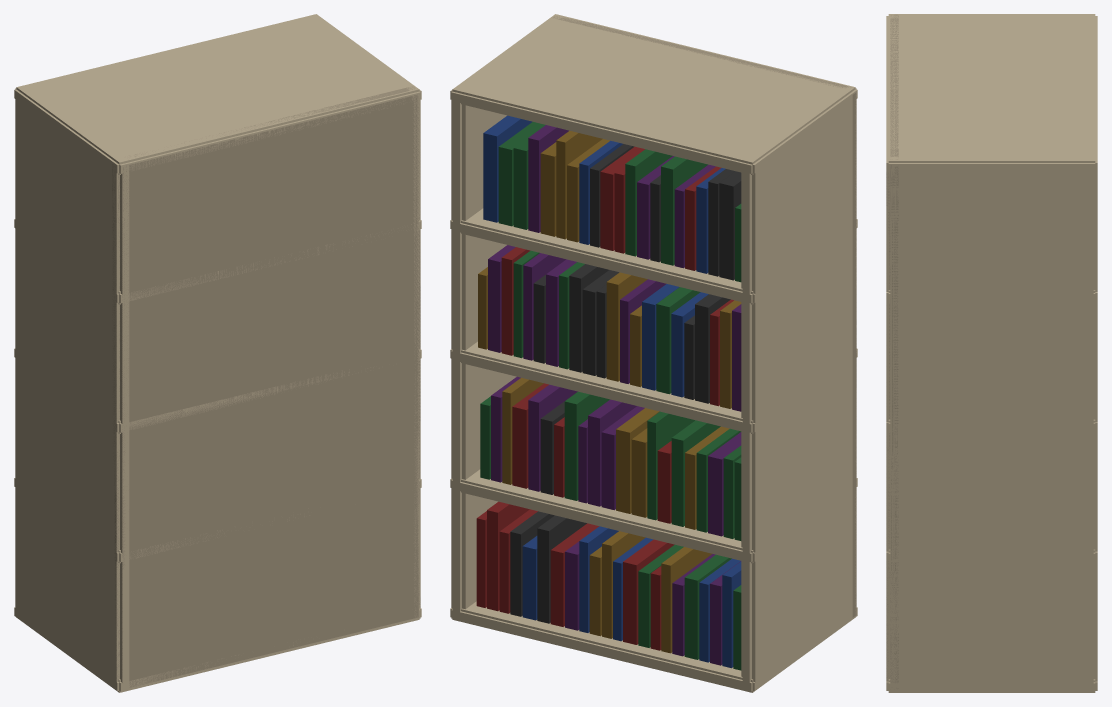
File: boreal_bookcase_v0.glb
3 views of the same model, side by side, from view 1: azimuth 30°, elevation 25°; view 2: azimuth 150°, elevation 25°; view 3: azimuth 270°, elevation 25° (orthographic).
Visible parts, largest first — view 1: boreal_bookcase_v0; view 2: boreal_bookcase_v0; view 3: boreal_bookcase_v0.
Part boxes in pixels (x1=…): boreal_bookcase_v0: x1=14, y1=14, x2=421, y2=692; boreal_bookcase_v0: x1=450, y1=14, x2=857, y2=692; boreal_bookcase_v0: x1=886, y1=14, x2=1097, y2=692.
Bounding box in the file's own units: 1.5 × 2.5 × 0.9.
